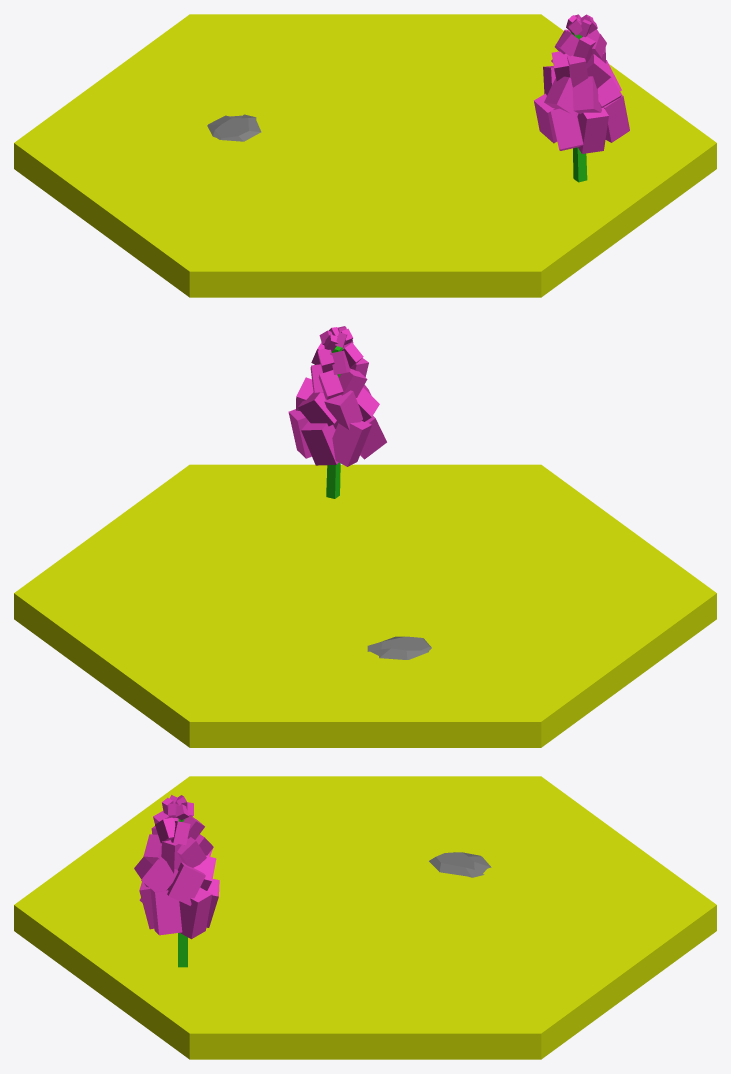
Rendered from yellow3.glb.
3 renders of one model, top to bottom at view 1: azimuth 30°, elevation 25°; view 2: azimuth 150°, elevation 25°; view 3: azimuth 270°, elevation 25°, orthographic.
Visible parts, largest first — view 1: Cylinder.015; view 2: Cylinder.015; view 3: Cylinder.015.
Boxes of the visible parts, x1,y1,x2,y2 form: Cylinder.015: (14,14,716,297); Cylinder.015: (14,326,716,747); Cylinder.015: (14,776,716,1059).
Bounding box in the file's own units: 0.9458 × 0.329 × 1.09.
